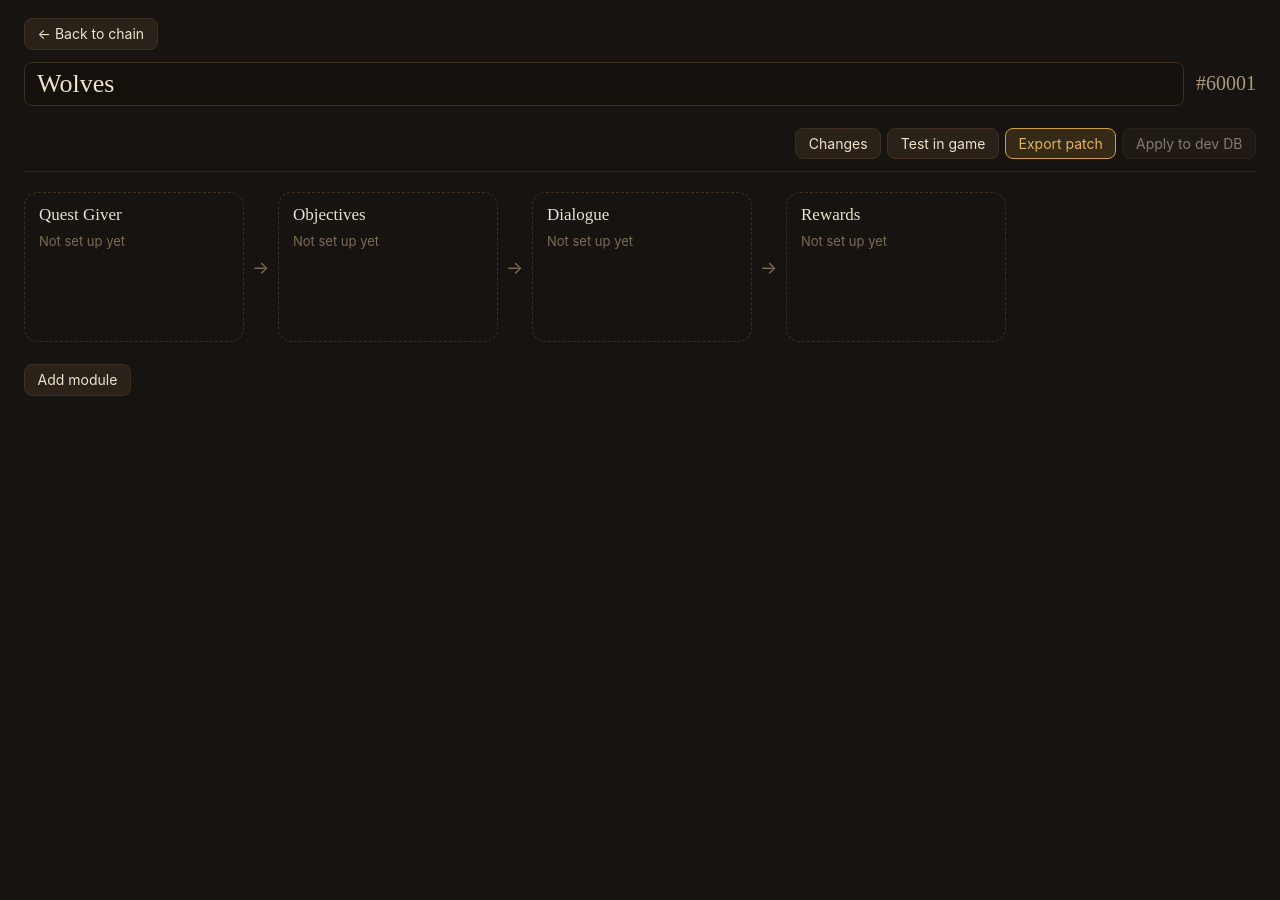
Test: locale notice › warns, naming the locales, once an English text field is edited
Click the button "Dialogue Not set up yet": [642, 267] box [532, 192, 752, 342]
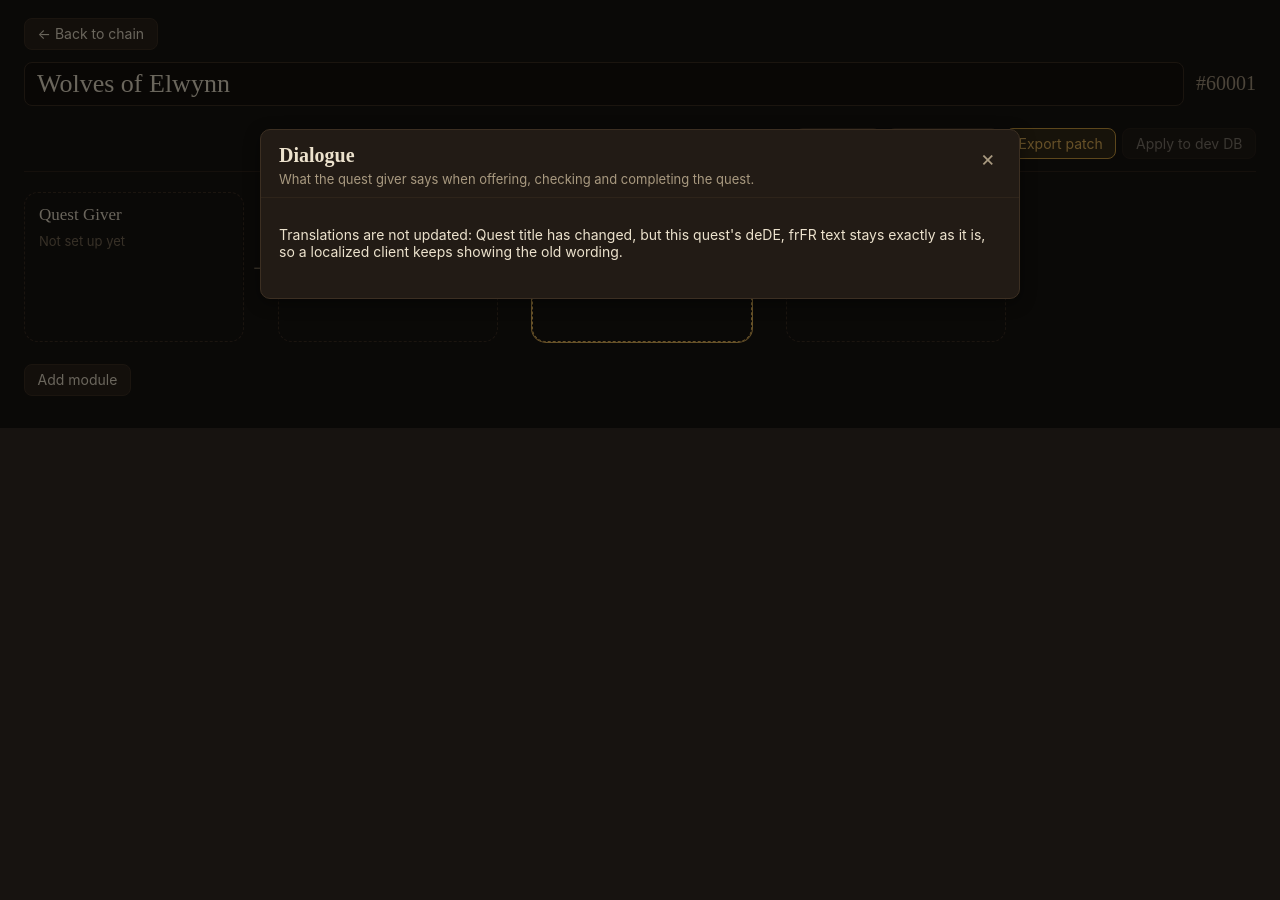
Result: the text with test id "locale-notice" shows "deDE" at [279, 226, 985, 260]
Result: the text with test id "locale-notice" shows "frFR" at [279, 226, 985, 260]
Result: the text with test id "locale-notice" shows "Quest title" at [279, 226, 985, 260]
